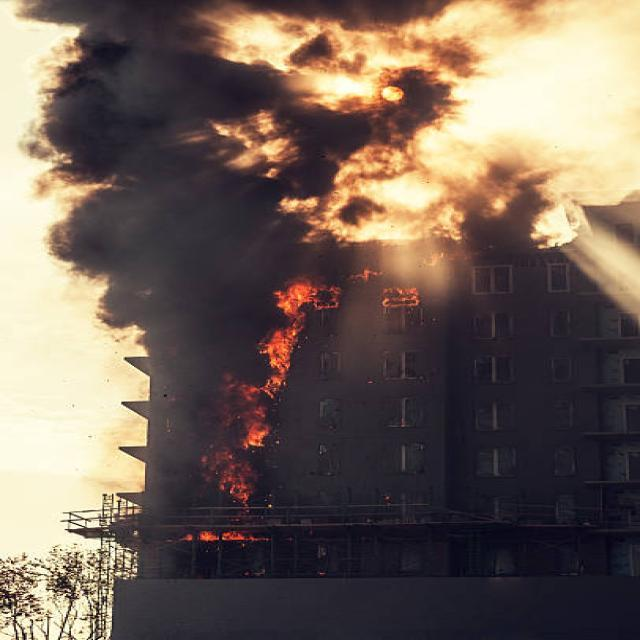Fire: (200, 260, 336, 498), (378, 282, 426, 316)
Smoke: (22, 0, 350, 336), (302, 1, 597, 238)
